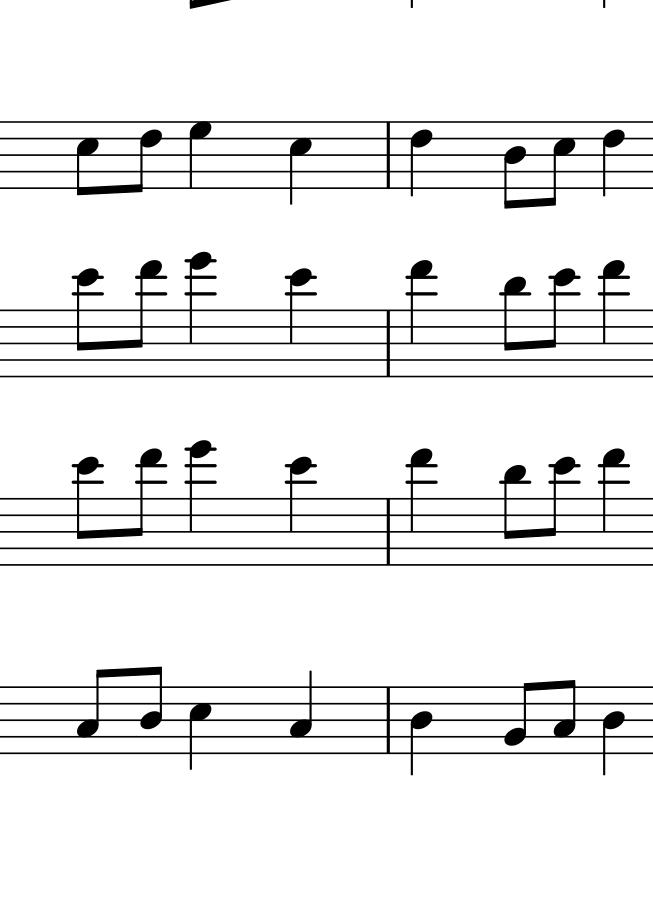4_10: (284, 267, 316, 380), (284, 456, 316, 569)
4_13: (405, 259, 438, 377), (597, 260, 630, 378), (597, 448, 630, 566), (404, 448, 437, 566)
4_14: (183, 250, 218, 379), (183, 440, 218, 569)
4_3: (288, 671, 313, 755)
4_4: (409, 686, 434, 776), (601, 687, 626, 776)
4_5: (287, 121, 314, 206), (187, 685, 212, 770)
4_6: (601, 119, 625, 198), (409, 121, 433, 197)
4_7: (188, 120, 213, 190)
8_11: (502, 272, 528, 376), (503, 461, 528, 565)
8_12: (545, 263, 578, 379), (545, 453, 578, 566), (74, 264, 103, 375), (73, 455, 102, 557)
8_13: (130, 259, 167, 379)
8_2: (503, 681, 535, 755)
8_3: (75, 668, 109, 757), (551, 678, 577, 755)
8_4: (502, 119, 527, 213), (138, 664, 163, 756)
8_5: (541, 121, 577, 209), (74, 119, 99, 198)
8_6: (130, 120, 163, 194)
Single_barline: (381, 121, 398, 186), (381, 310, 397, 375), (381, 499, 397, 562), (381, 686, 396, 753)
